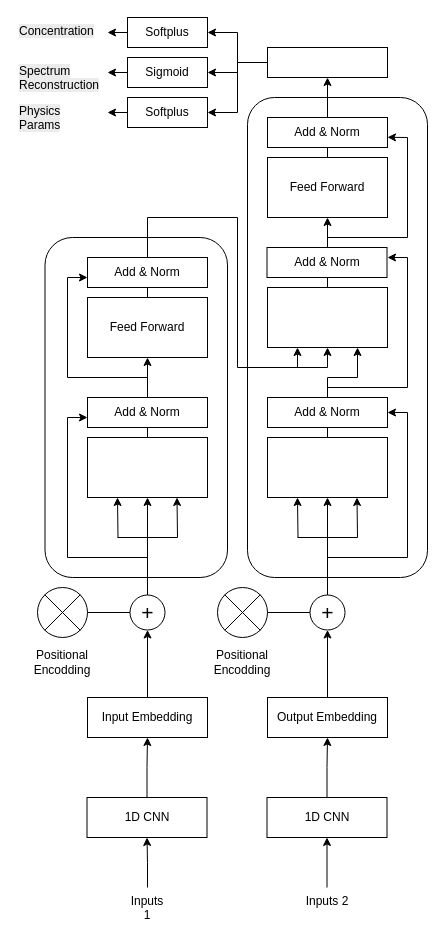
Image size: 445x941. Some labels were removed from this diagram. The shapes that lost their labels are listed below. From the top down, each one's box as (x1, y1, x2, y2) in pixels, then its label:
(266, 46, 388, 78): Linear
(266, 286, 388, 348): Multi-head Attention
(86, 436, 208, 498): Multi Head Attention
(266, 436, 388, 498): Masked Multi-head Attention
